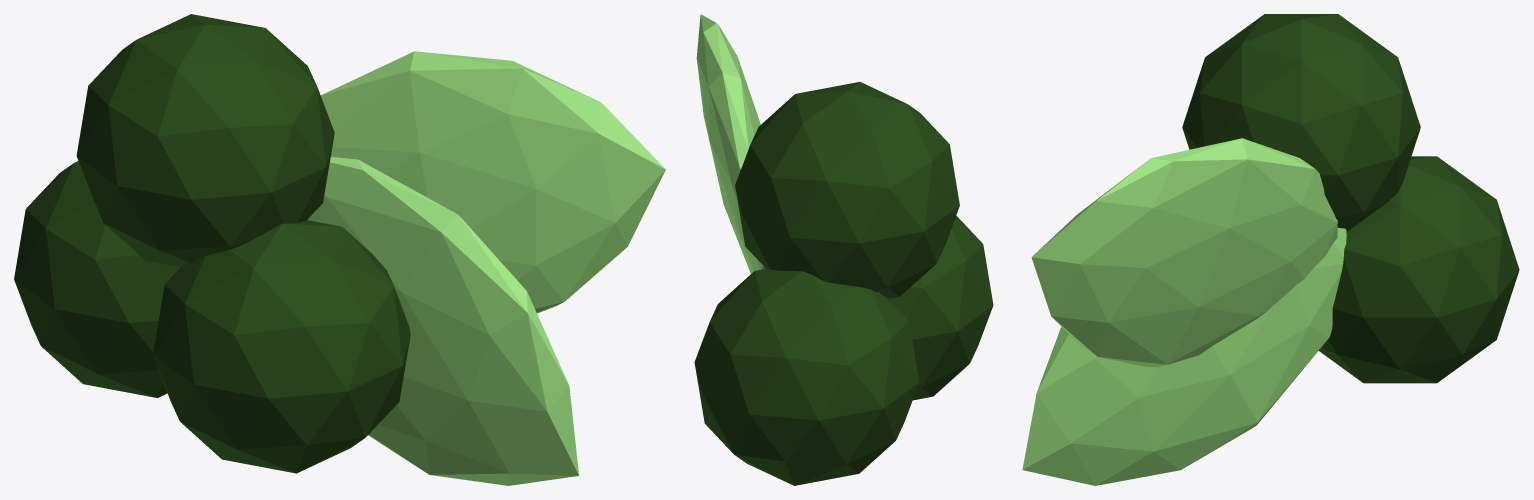
File: BERRIES(B2).fbx
3 views of the same model, side by side, from view 1: azimuth 30°, elevation 25°; view 2: azimuth 150°, elevation 25°; view 3: azimuth 270°, elevation 25° (orthographic). The views are drawn at different scales.
Visible parts, largest first — view 1: leef.002, berrie, barry, leef.001, berry; view 2: berry, barry, berrie, leef.002; view 3: leef.002, leef.001, berry, barry.
Boxes of the visible parts, x1=… form: leef.002: x1=320, y1=51, x2=665, y2=313; berrie: x1=153, y1=220, x2=410, y2=473; barry: x1=76, y1=14, x2=334, y2=267; leef.001: x1=307, y1=157, x2=578, y2=485; berry: x1=14, y1=161, x2=180, y2=397; berry: x1=694, y1=268, x2=919, y2=485; barry: x1=735, y1=82, x2=959, y2=298; berrie: x1=888, y1=215, x2=993, y2=400; leef.002: x1=696, y1=14, x2=763, y2=273; leef.002: x1=1031, y1=138, x2=1337, y2=367; leef.001: x1=1022, y1=228, x2=1346, y2=485; berry: x1=1318, y1=156, x2=1519, y2=383; barry: x1=1182, y1=14, x2=1420, y2=231.
Size of the model in its own units: 374 by 358 by 417.
